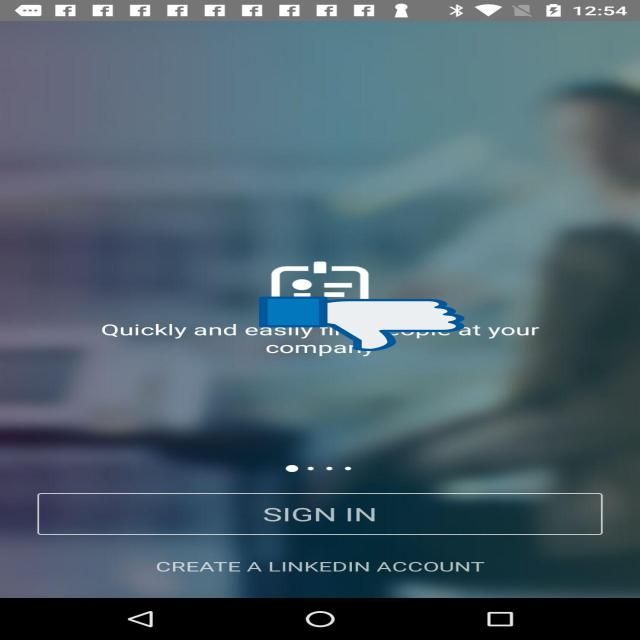obstruction: (259, 296, 465, 352)
